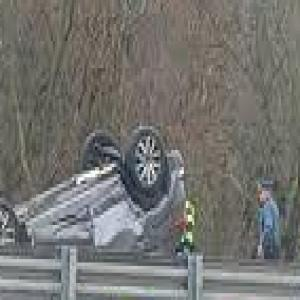severe: (0, 123, 186, 283)
